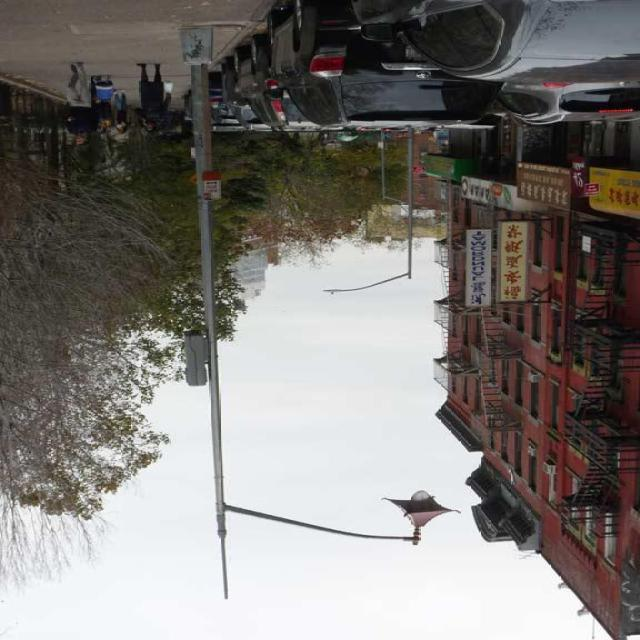off: (190, 458, 490, 588)
